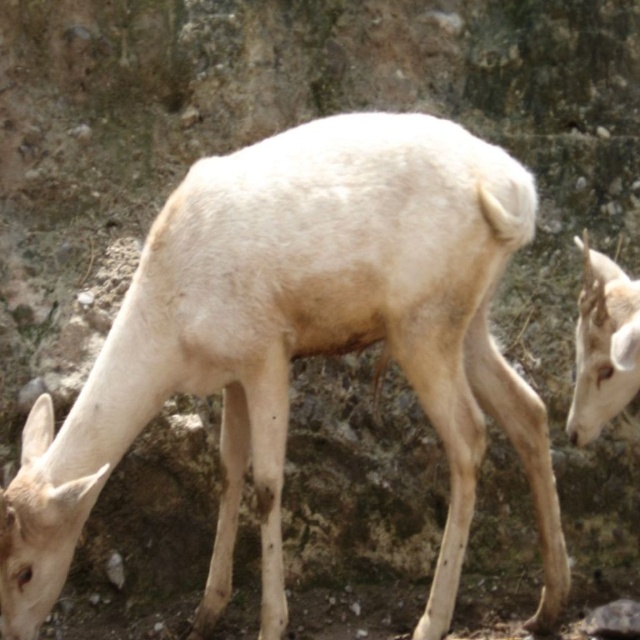Cattle: (0, 89, 574, 640), (566, 226, 640, 449)
